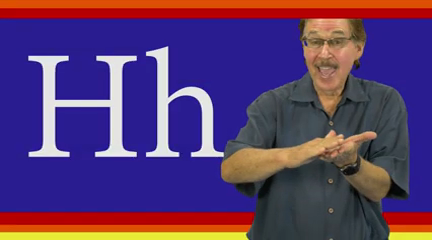H: (288, 128, 379, 170)
